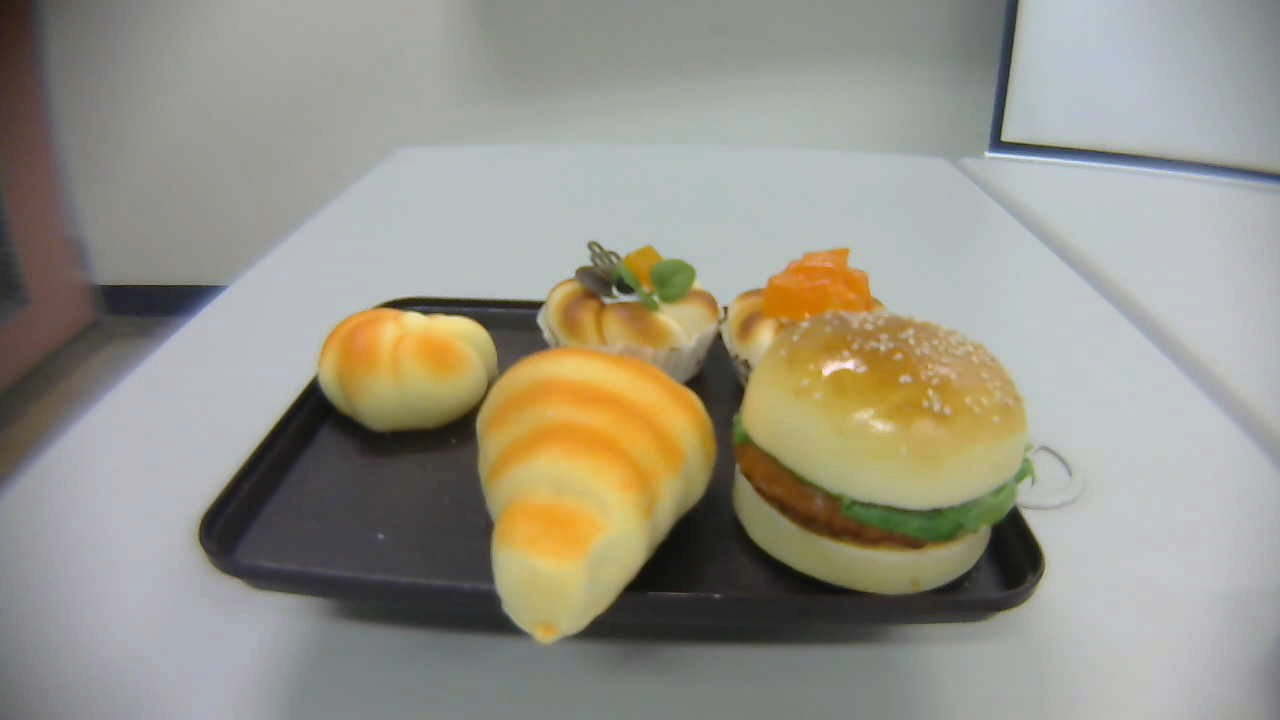croissant: (476, 347, 720, 647)
fruit tart: (538, 242, 721, 388)
hamburger: (732, 311, 1037, 596)
mango tart: (717, 247, 893, 391)
twist bread: (318, 307, 498, 433)
